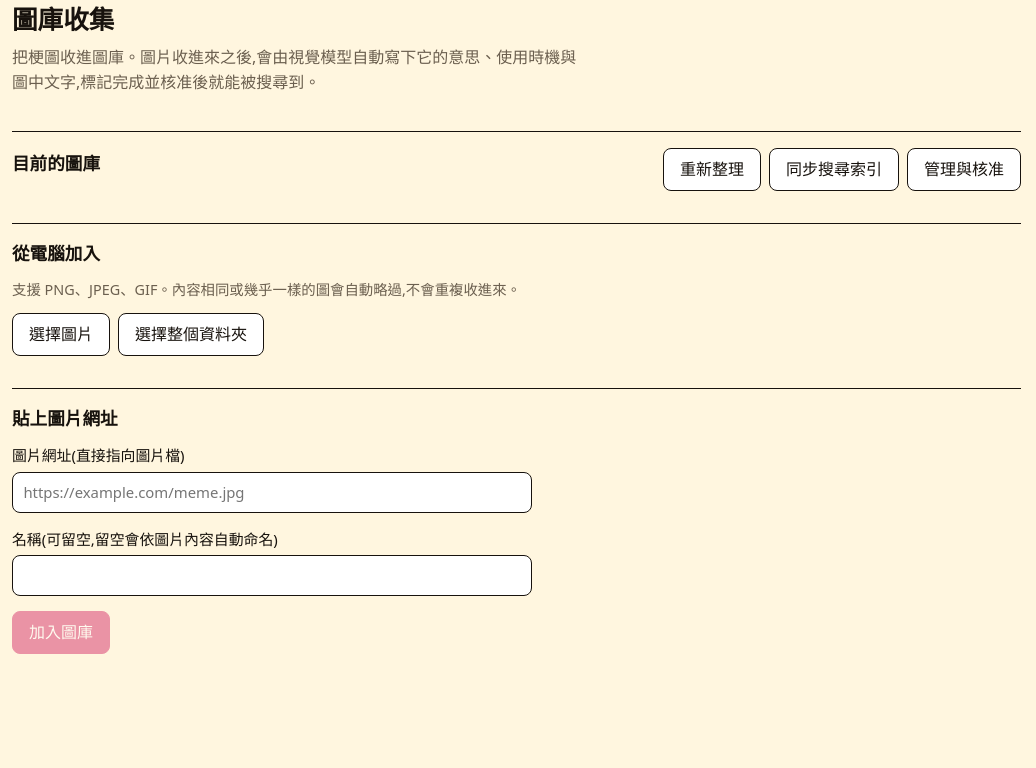
CollectionPage › says when the picture is already in the library, and when the address cannot be used
The width and height of the screenshot is (1036, 768).
Type "https://example.com/a.jpg" into the field labelled "圖片網址(直接指向圖片檔)" at (272, 493), box [12,472,532,513]
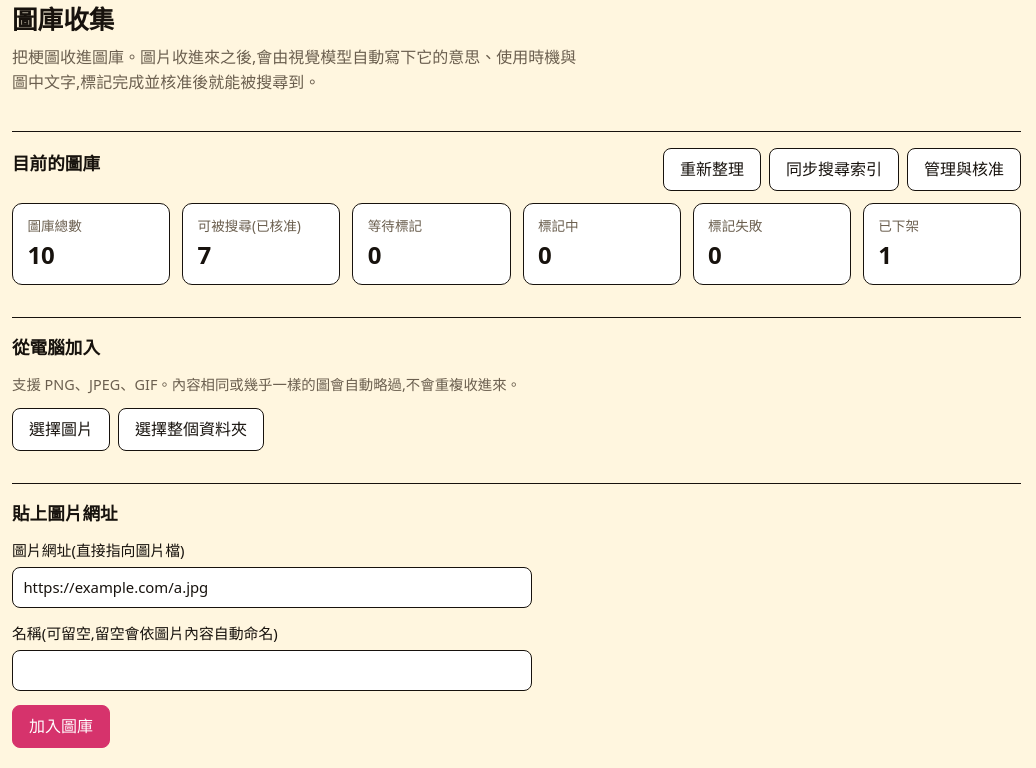
Submit the form with class "url-form", box [12,539,532,748]
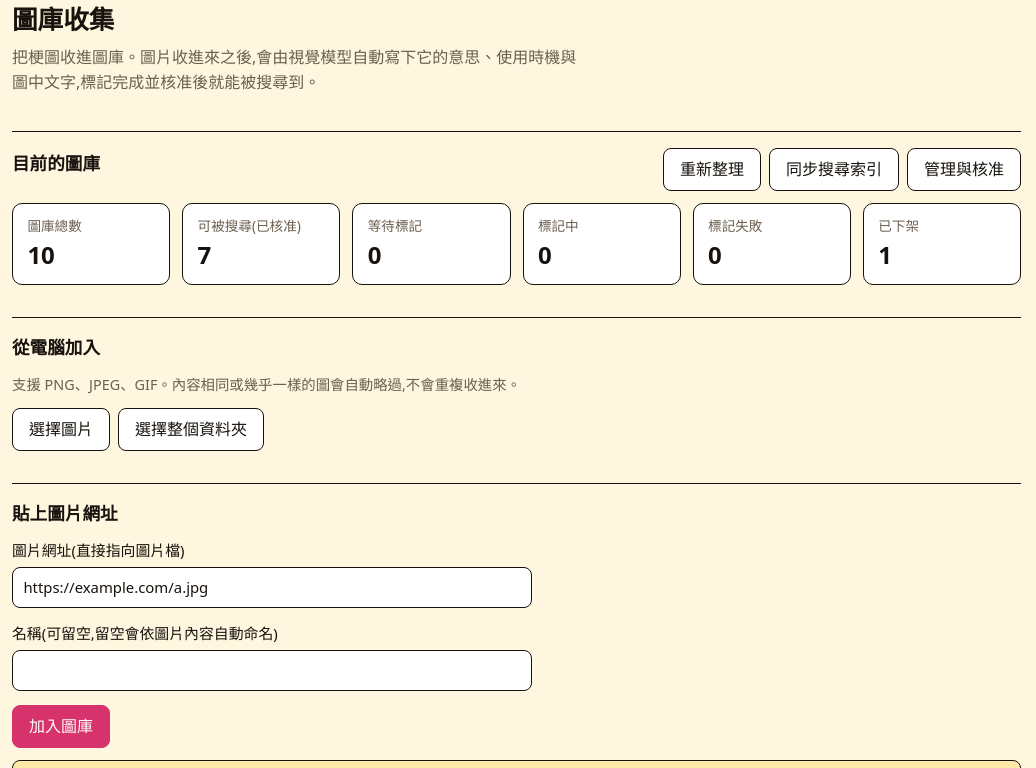
Submit the form with class "url-form", box [12,539,532,748]
(page scrolled)
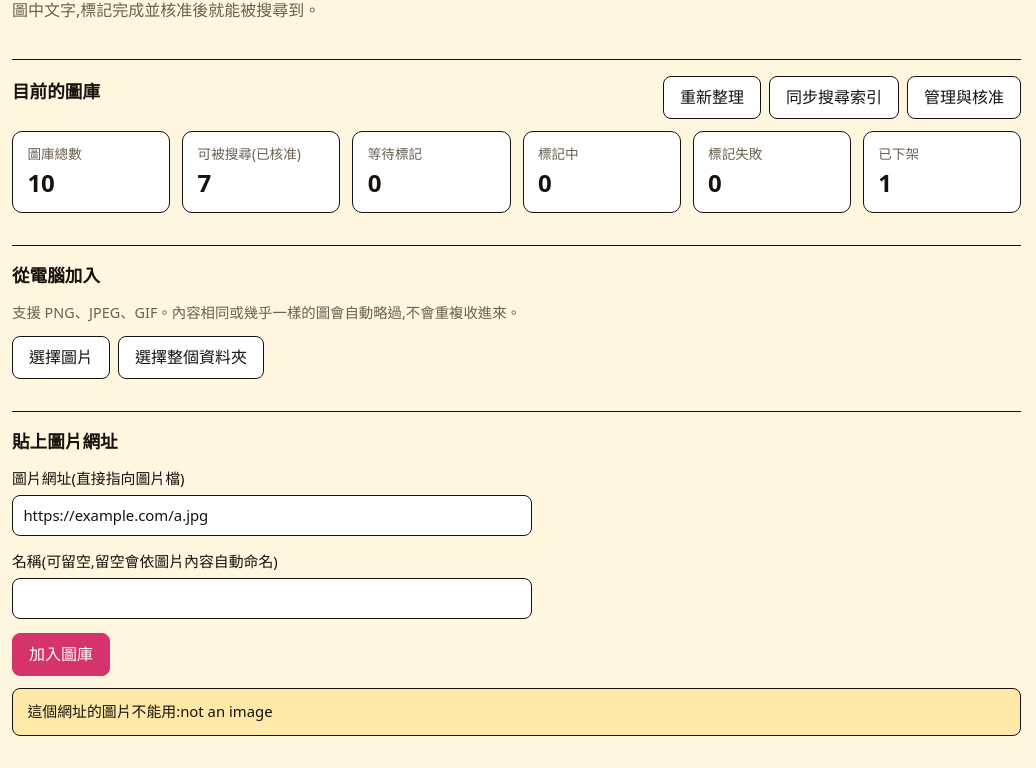
Check: the text "這個網址的圖片不能用:not an image" is shown, box [12,688,1021,736]
